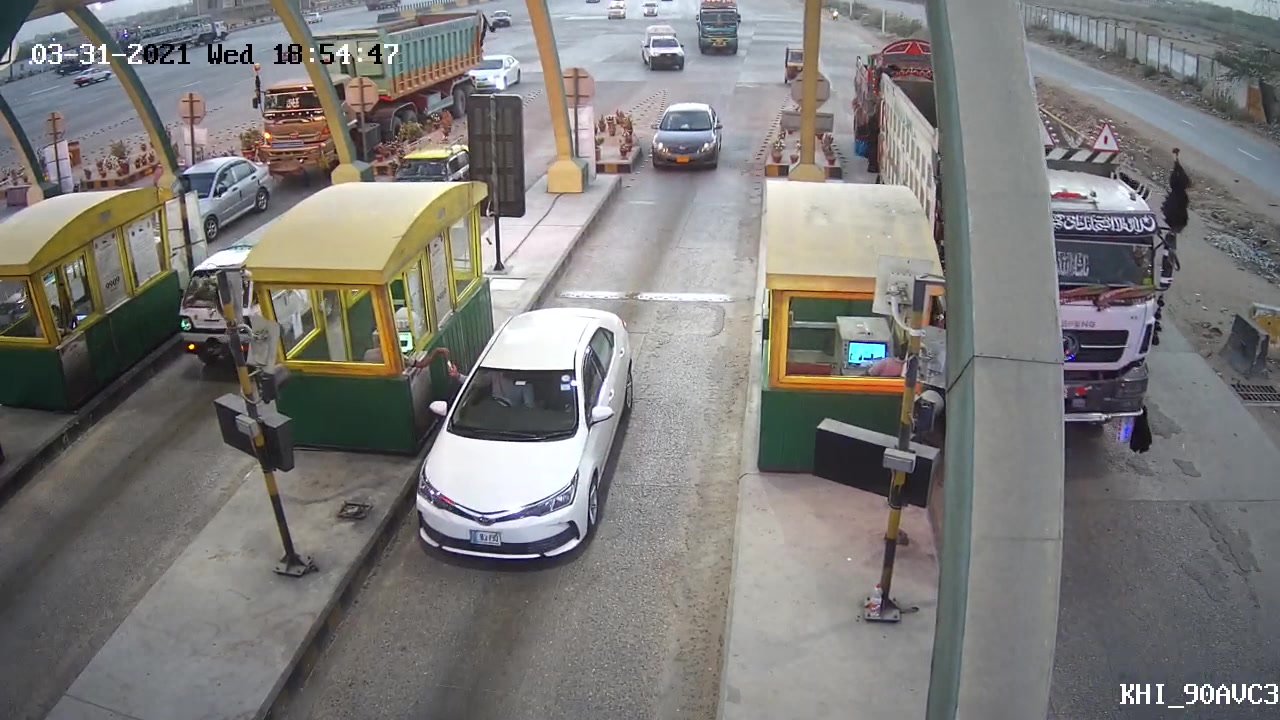F1: (414, 309, 643, 571)
